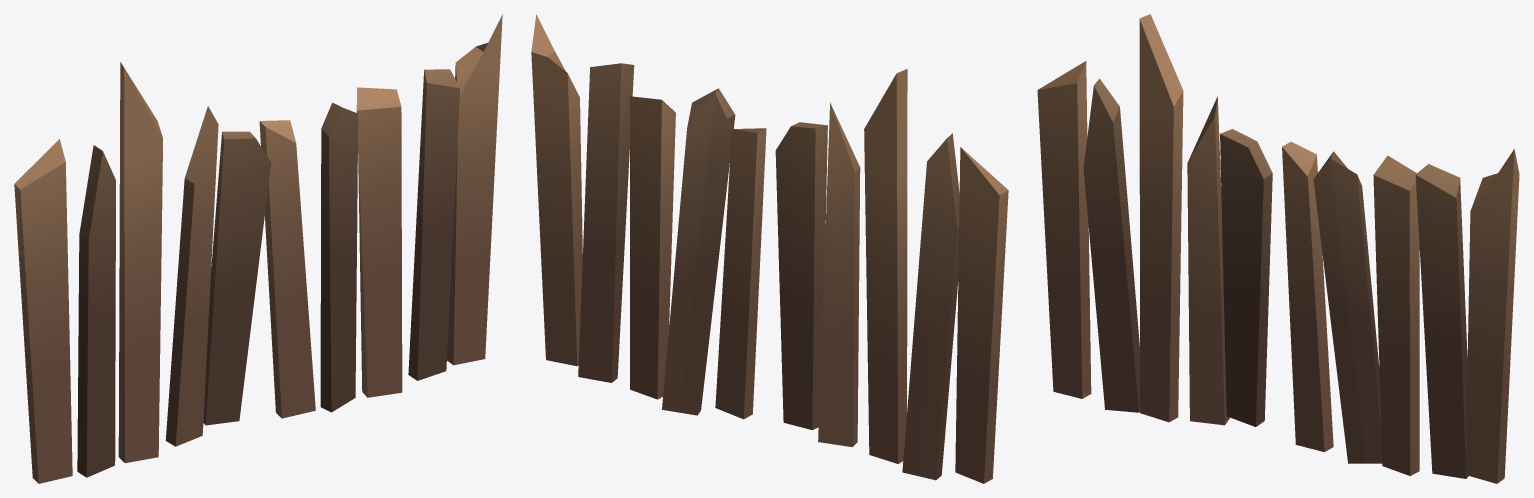
The model's file is Fence Wood V2 2.glb.
3 renders of one model, left to right at view 1: azimuth 30°, elevation 25°; view 2: azimuth 150°, elevation 25°; view 3: azimuth 330°, elevation 25°, orthographic.
Visible parts, largest first — view 1: Fence Wood V2 2; view 2: Fence Wood V2 2; view 3: Fence Wood V2 2.
Boxes of the visible parts, left/top/right/bottom form: Fence Wood V2 2: left=14, top=14, right=502, bottom=483; Fence Wood V2 2: left=531, top=14, right=1008, bottom=483; Fence Wood V2 2: left=1037, top=14, right=1519, bottom=483.
Size of what is drawn, in the model's own units: 2.02 by 1.62 by 0.2138.
Materials: 1 (1 with a texture image).
